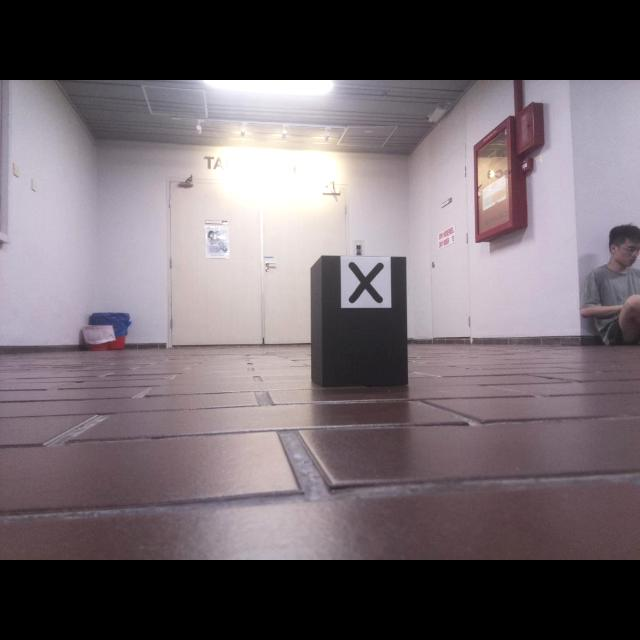X: (348, 261, 384, 304)
